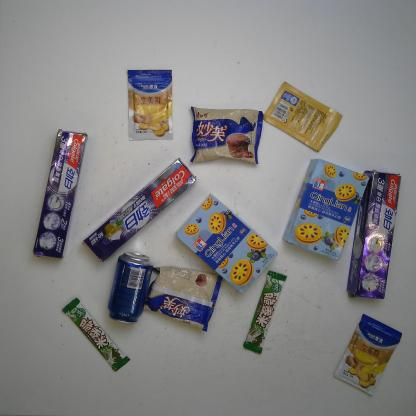Chocolate: (63, 297, 132, 373), (242, 270, 288, 356)
Dessert: (174, 193, 278, 295), (282, 158, 371, 260), (143, 264, 222, 332), (188, 105, 264, 165)
Drink: (107, 252, 152, 324)
Personal Hygiene: (81, 156, 198, 263), (346, 168, 402, 300), (32, 128, 88, 260)
Seasoner: (332, 314, 402, 398), (262, 81, 342, 151), (126, 66, 174, 142)
